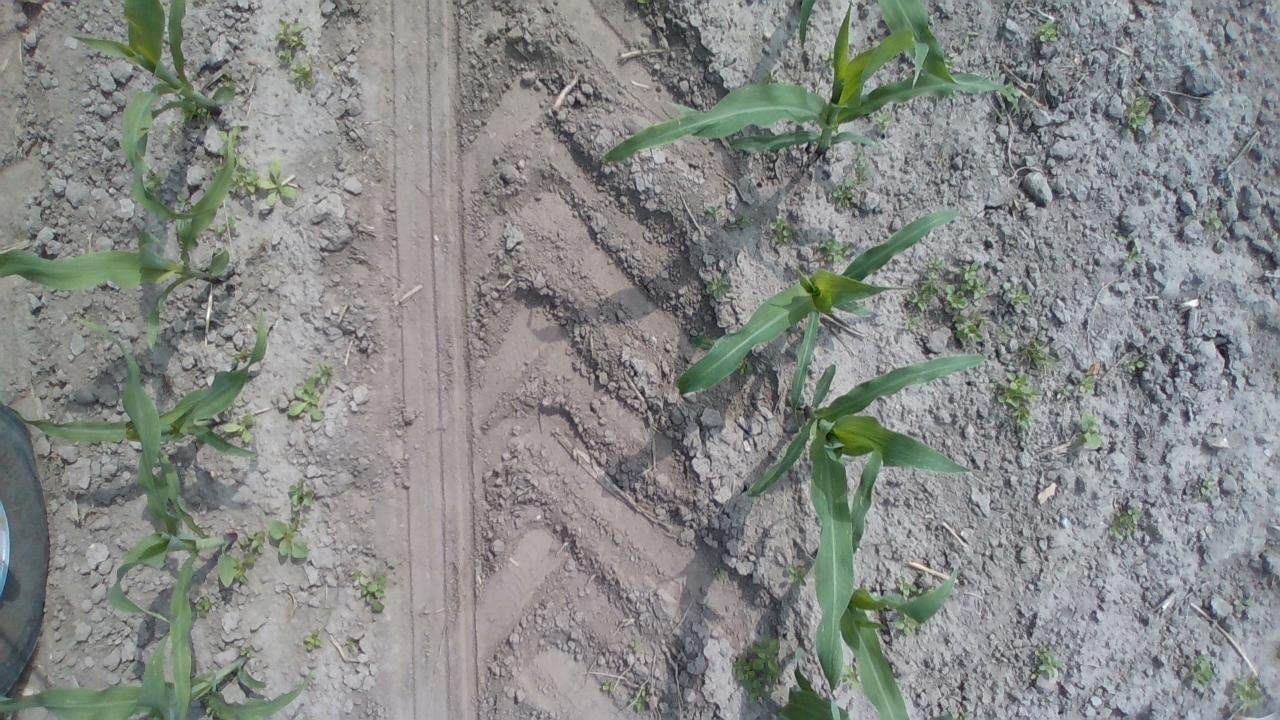Maize: (747, 354, 989, 718), (596, 0, 1028, 163), (72, 314, 242, 720), (673, 206, 964, 428), (815, 446, 964, 720), (4, 310, 268, 459), (71, 0, 238, 218), (0, 215, 235, 353), (0, 630, 317, 720), (874, 0, 994, 87), (780, 647, 850, 720), (796, 0, 816, 49), (932, 715, 958, 720)
Weeds: (730, 634, 780, 708), (990, 371, 1044, 436), (348, 553, 397, 616), (290, 363, 334, 420), (266, 511, 312, 560), (906, 253, 944, 310), (1019, 333, 1070, 375), (255, 160, 298, 206), (1232, 672, 1268, 714), (962, 259, 996, 299), (1108, 500, 1144, 536), (950, 314, 991, 345), (1030, 645, 1064, 680), (830, 174, 861, 212), (272, 16, 308, 48), (814, 236, 858, 262), (1123, 89, 1151, 129), (286, 56, 318, 90), (237, 530, 266, 565), (1078, 407, 1100, 451), (288, 476, 316, 510), (944, 280, 971, 312), (223, 415, 254, 442), (767, 217, 795, 246), (702, 274, 732, 300), (218, 124, 244, 154), (1003, 280, 1031, 307), (896, 571, 924, 598), (1190, 652, 1212, 686), (1198, 469, 1220, 500), (1076, 368, 1096, 400), (160, 121, 182, 148), (1040, 19, 1062, 45), (302, 627, 322, 655), (788, 566, 811, 589), (232, 170, 256, 192), (840, 664, 860, 690), (147, 167, 167, 192), (857, 148, 873, 178), (194, 596, 213, 620), (725, 211, 751, 228), (897, 617, 918, 637), (688, 334, 714, 350), (902, 314, 922, 334), (214, 215, 236, 233), (703, 205, 722, 225), (875, 109, 894, 128), (1125, 244, 1137, 272), (630, 691, 646, 712), (1203, 208, 1221, 226), (276, 47, 293, 66), (176, 194, 192, 214), (1124, 355, 1144, 370), (234, 563, 249, 583), (1007, 82, 1024, 98), (627, 638, 642, 656), (738, 362, 756, 375), (944, 54, 956, 72), (766, 70, 781, 84), (602, 678, 616, 693), (964, 30, 977, 46), (712, 566, 728, 579), (343, 635, 355, 652), (823, 46, 835, 62), (1056, 384, 1068, 400), (210, 156, 222, 172), (234, 155, 249, 167), (952, 711, 971, 720), (1234, 596, 1254, 604), (235, 349, 251, 359), (1150, 126, 1164, 136), (241, 646, 252, 656), (197, 108, 207, 118), (636, 0, 652, 5), (224, 406, 233, 413)
